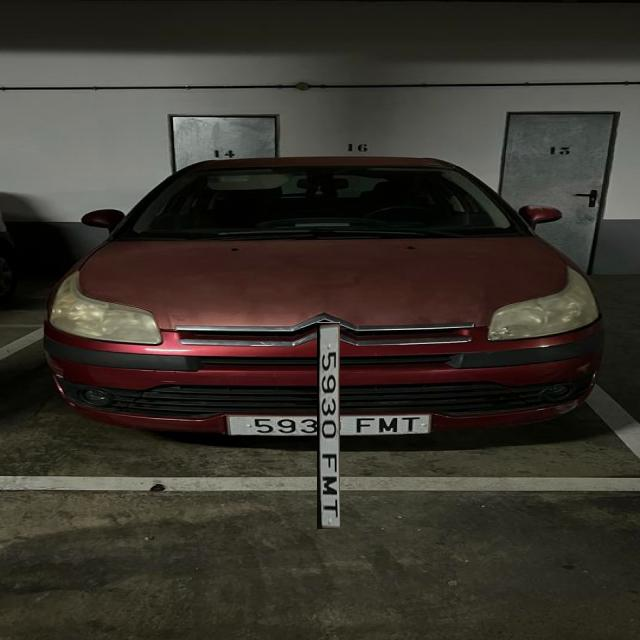License-Plate: (271, 368, 386, 484)
